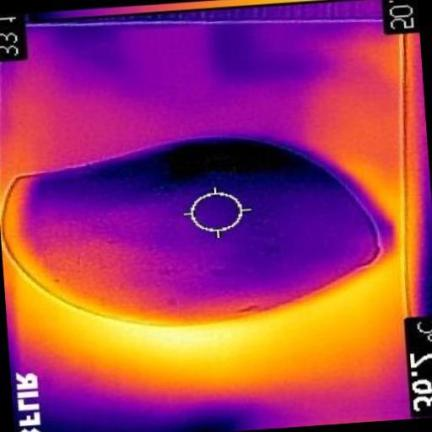mango: (5, 138, 379, 322)
